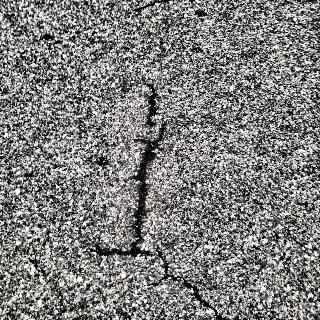crack: (94, 122, 168, 258), (152, 244, 224, 320), (135, 74, 160, 127), (135, 0, 168, 12)
